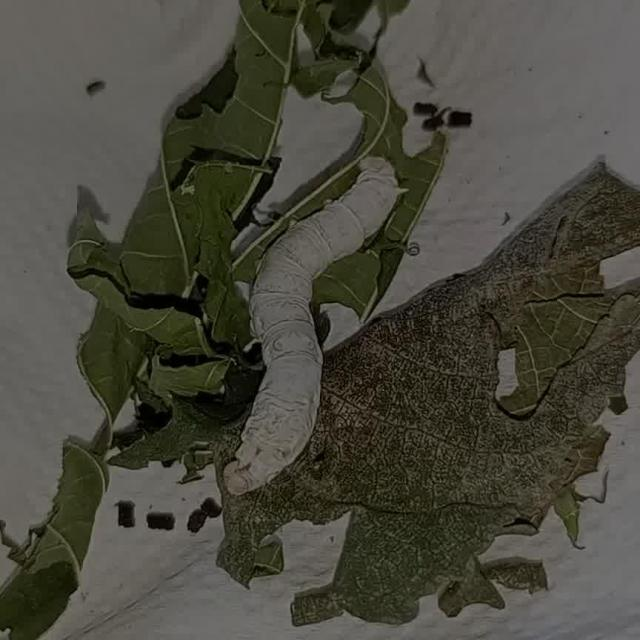Healthy: (208, 148, 414, 509)
